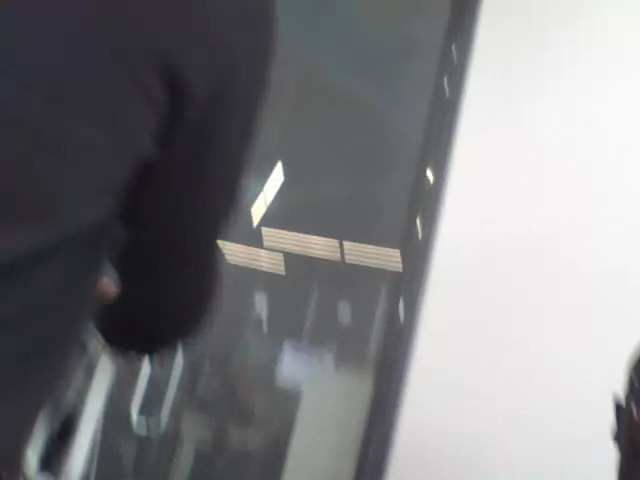face: (616, 352, 640, 480)
